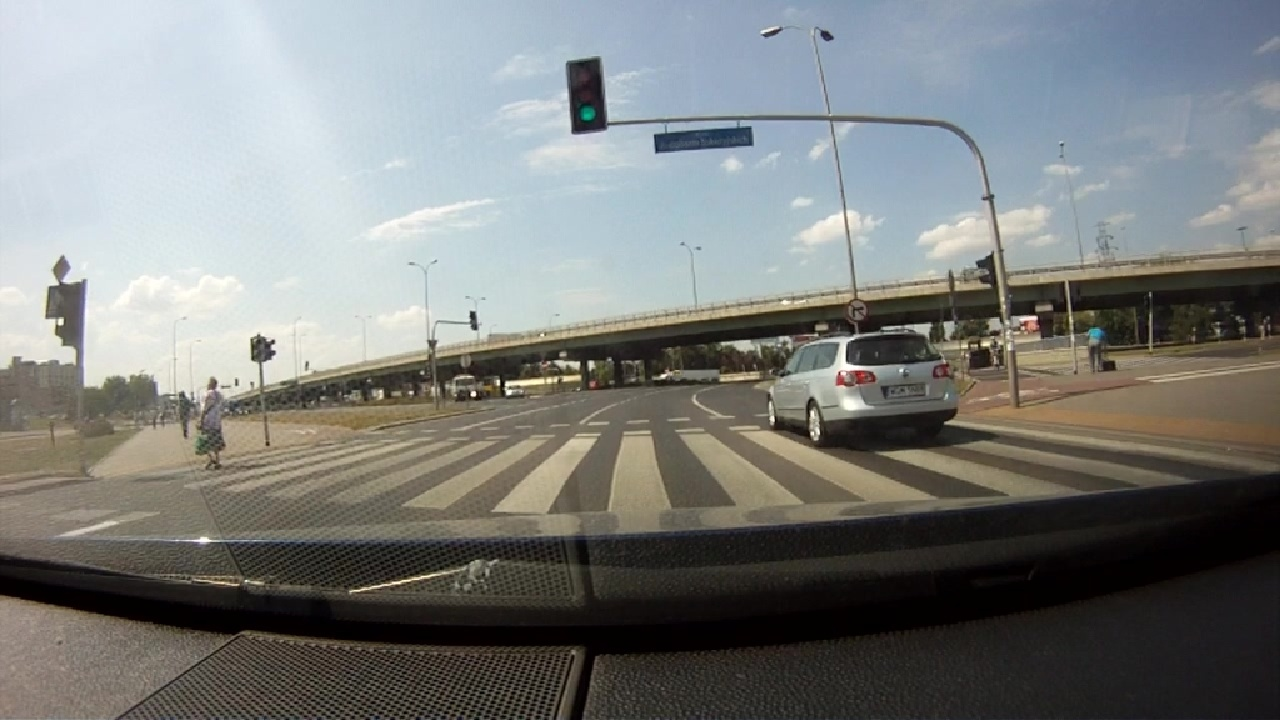Green: (570, 60, 602, 129)
